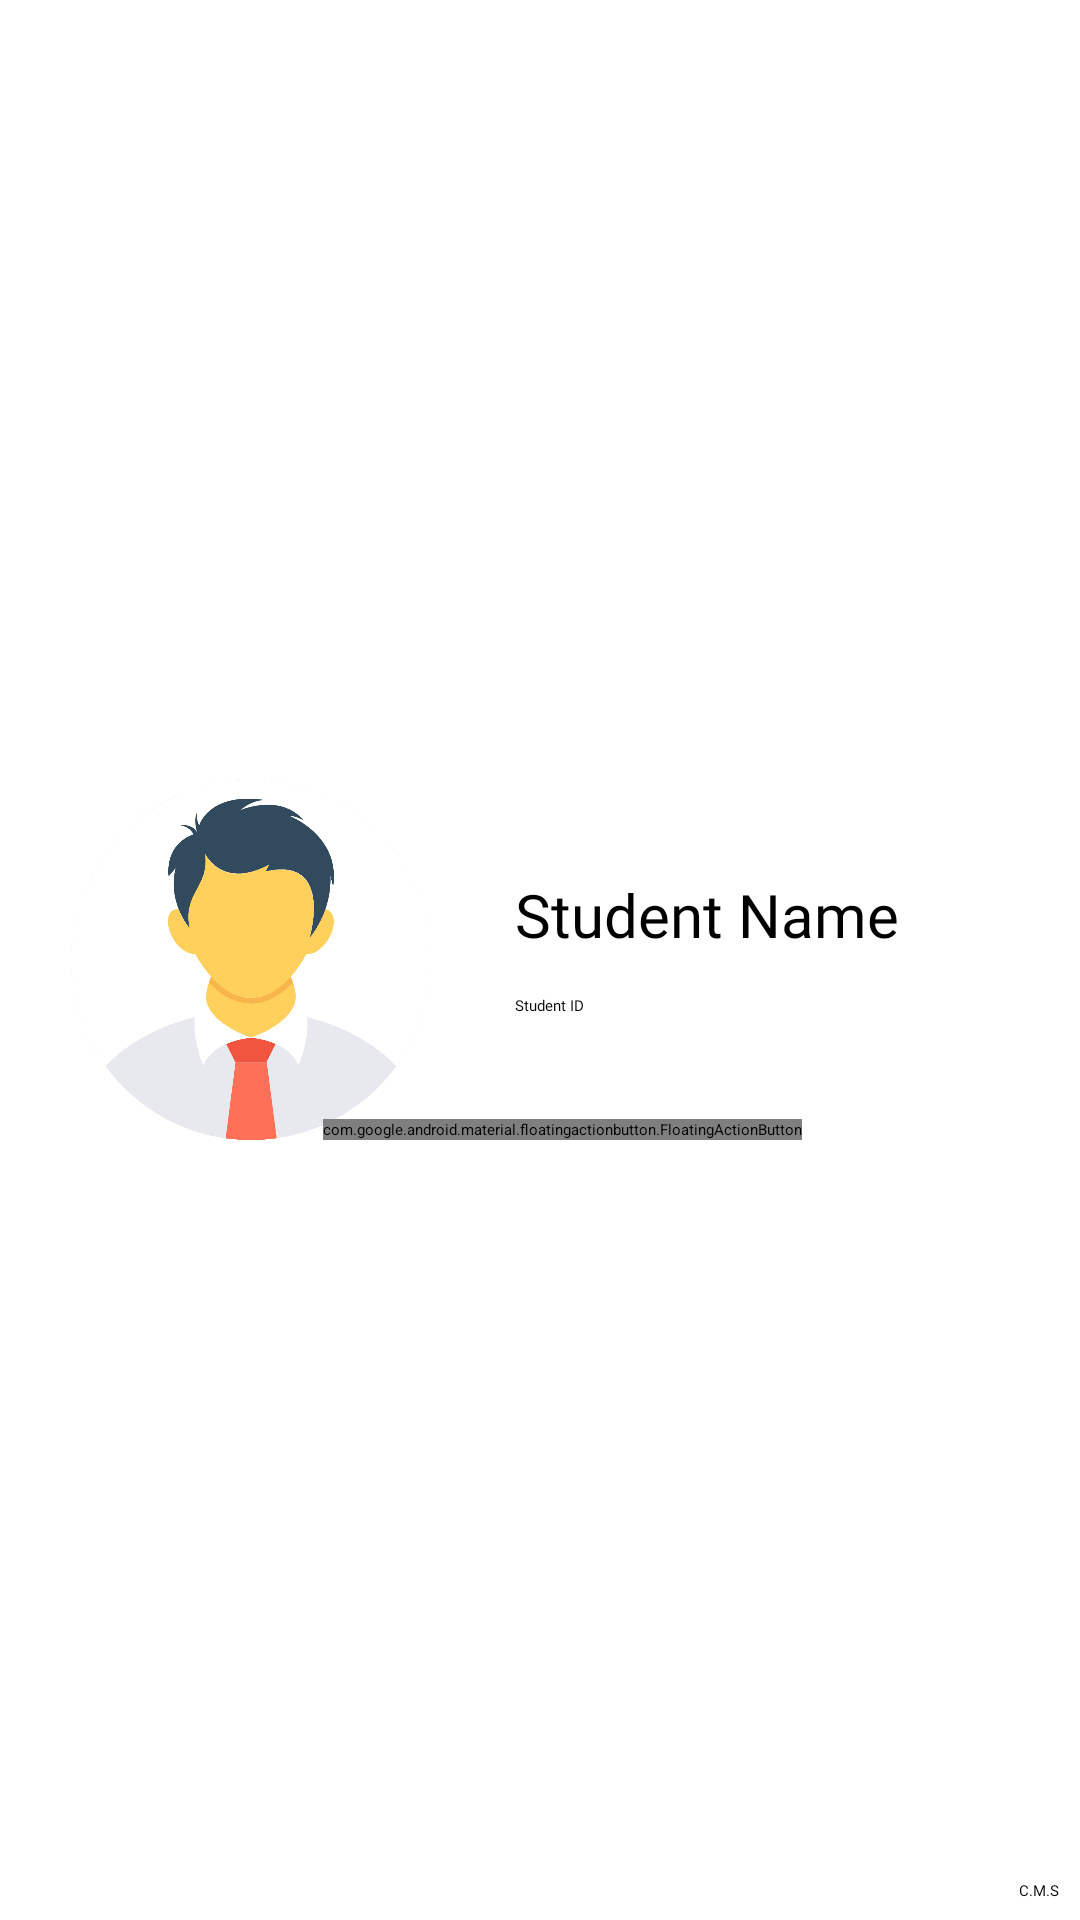

Named icons in this screenshot (1080px×1920px) and their centers, [x,y]:
Profile: [251,969]
